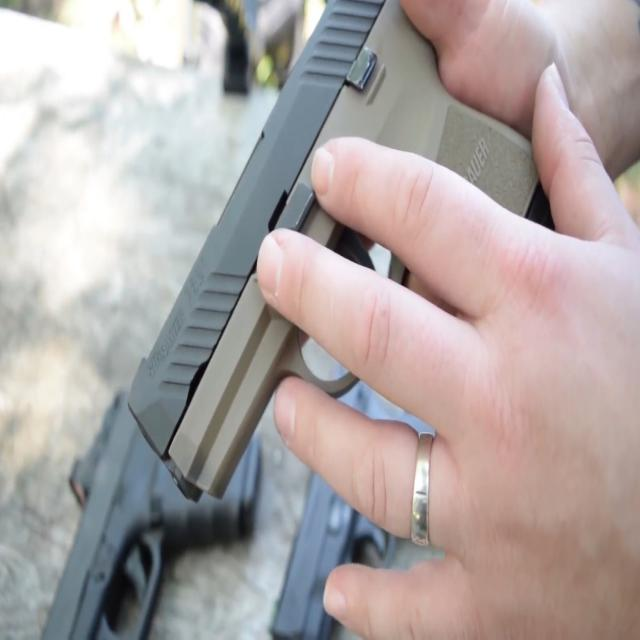handgun: (122, 3, 564, 522), (19, 366, 274, 640)
